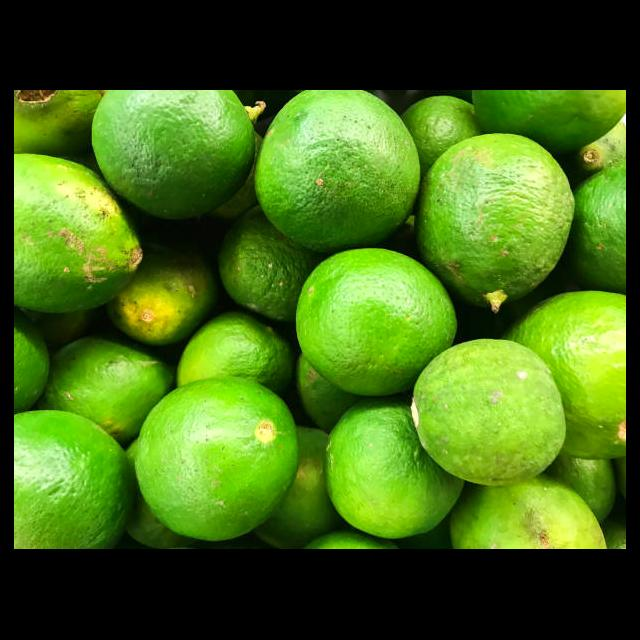lime: (415, 134, 577, 314), (138, 377, 298, 543), (410, 340, 569, 490), (298, 249, 455, 399), (14, 154, 144, 318), (102, 210, 230, 350), (446, 480, 607, 550), (225, 217, 310, 323)
